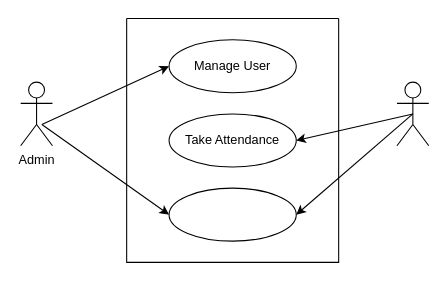
The diagram is 447 pixels wide and 289 high, and some of its shapes have lost their labels. Here are the shapes that lost their labels. From the top down, the centre of each, then its label:
(x=412, y=113): User
(x=232, y=214): View Attendance Record
